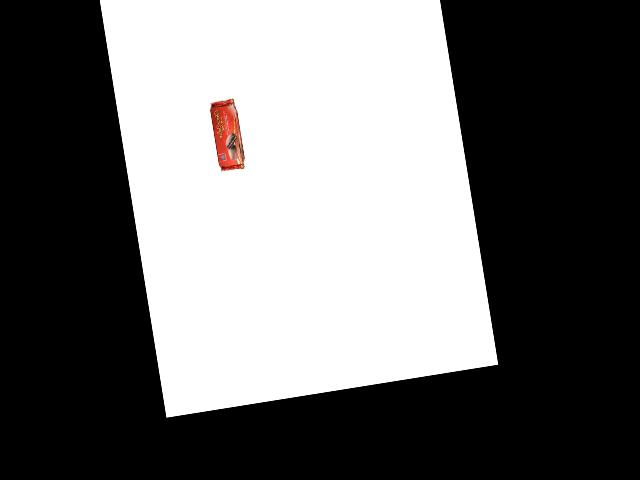chocolate: (208, 96, 252, 173)
